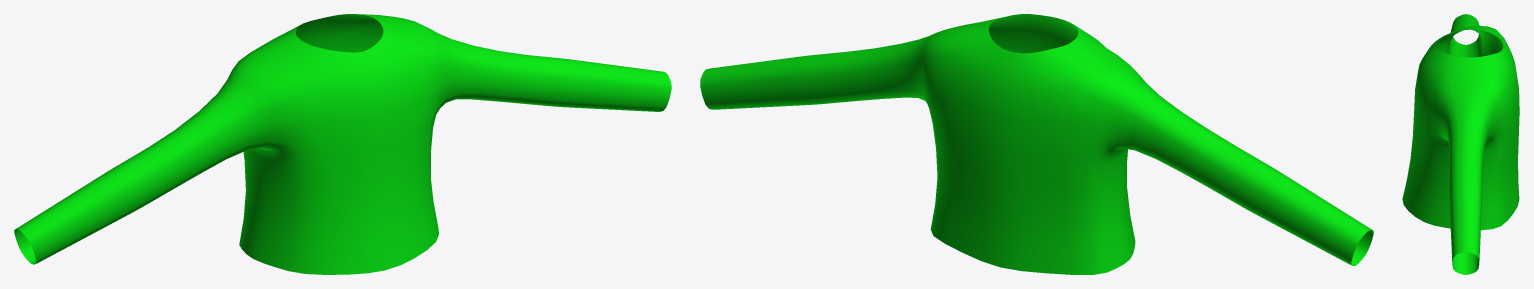
Rendered from shirt_mesh.fbx.
3 renders of one model, left to right at view 1: azimuth 30°, elevation 25°; view 2: azimuth 150°, elevation 25°; view 3: azimuth 270°, elevation 25°, orthographic. The views are drawn at different scales.
Parts seen in each view (by area): view 1: Body.001; view 2: Body.001; view 3: Body.001.
Boxes of the visible parts, x1=… form: Body.001: x1=14, y1=14, x2=671, y2=274; Body.001: x1=700, y1=14, x2=1373, y2=274; Body.001: x1=1402, y1=14, x2=1519, y2=274.
Size of the model in its own units: 1.1 by 0.3369 by 0.2288.
